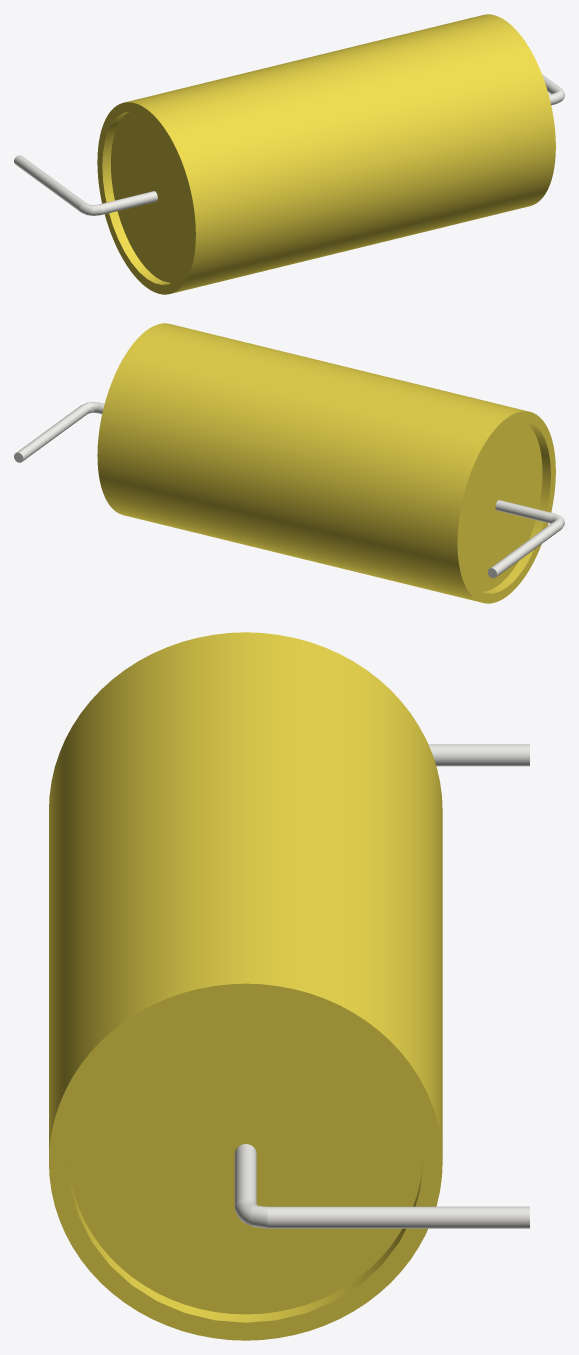
File: C_Axial_L19.0mm_D9.0mm_P25.00mm_Horizontal.glb
3 views of the same model, one above another, from view 1: azimuth 30°, elevation 25°; view 2: azimuth 150°, elevation 25°; view 3: azimuth 270°, elevation 25° (orthographic). The views are drawn at different scales.
Parts seen in each view (by area): view 1: Shape_IndexedFaceSet, Shape_IndexedFaceSet.005, Shape_IndexedFaceSet.001, Shape_IndexedFaceSet.003, Shape_IndexedFaceSet.008, Shape_IndexedFaceSet.010; view 2: Shape_IndexedFaceSet, Shape_IndexedFaceSet.005, Shape_IndexedFaceSet.001, Shape_IndexedFaceSet.003, Shape_IndexedFaceSet.008, Shape_IndexedFaceSet.012, Shape_IndexedFaceSet.010; view 3: Shape_IndexedFaceSet, Shape_IndexedFaceSet.006, Shape_IndexedFaceSet.002, Shape_IndexedFaceSet.012, Shape_IndexedFaceSet.004, Shape_IndexedFaceSet.008, Shape_IndexedFaceSet.010.
Part boxes in pixels (box(x1,y1,x2,y2)): Shape_IndexedFaceSet: box(124, 14, 555, 293); Shape_IndexedFaceSet.005: box(111, 112, 190, 282); Shape_IndexedFaceSet.001: box(97, 102, 195, 294); Shape_IndexedFaceSet.003: box(102, 112, 170, 284); Shape_IndexedFaceSet.008: box(14, 155, 86, 211); Shape_IndexedFaceSet.010: box(99, 93, 556, 214); Shape_IndexedFaceSet: box(97, 323, 528, 602); Shape_IndexedFaceSet.005: box(462, 421, 542, 591); Shape_IndexedFaceSet.001: box(457, 411, 555, 603); Shape_IndexedFaceSet.003: box(483, 421, 550, 593); Shape_IndexedFaceSet.008: box(490, 520, 562, 576); Shape_IndexedFaceSet.012: box(16, 404, 88, 460); Shape_IndexedFaceSet.010: box(96, 402, 554, 523); Shape_IndexedFaceSet: box(49, 632, 442, 1158); Shape_IndexedFaceSet.006: box(68, 1001, 422, 1314); Shape_IndexedFaceSet.002: box(49, 983, 442, 1340); Shape_IndexedFaceSet.012: box(267, 1206, 529, 1228); Shape_IndexedFaceSet.004: box(68, 1160, 422, 1322); Shape_IndexedFaceSet.008: box(428, 744, 529, 766); Shape_IndexedFaceSet.010: box(234, 1144, 256, 1207).
Bounding box in the file's own units: 10.04 × 3.54 × 4.33.
